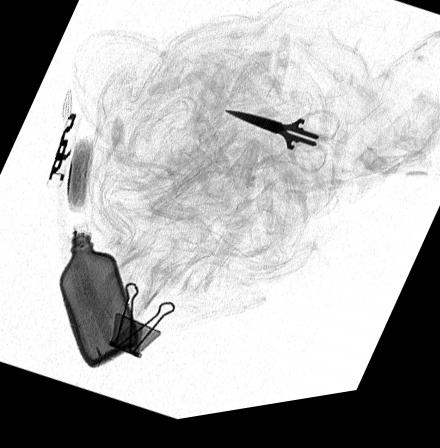Scissors: (220, 114, 344, 189)
